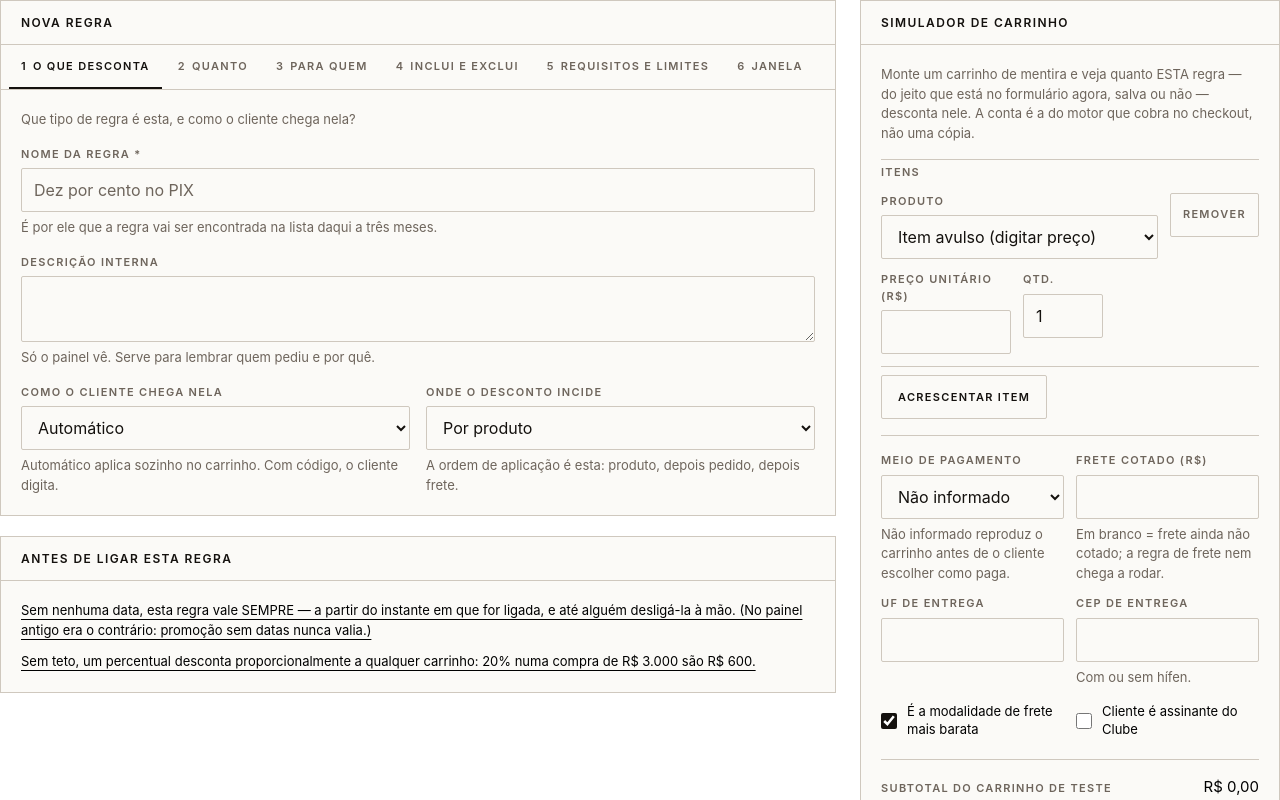
Test: a barra de salvar é contextual — R5 › descartar pede duas etapas, e a segunda desfaz a digitação
The width and height of the screenshot is (1280, 800).
Step 1. Type "PIX" into the field labelled "Nome da regra *" → (418, 190), box left=21, top=168, right=815, bottom=212
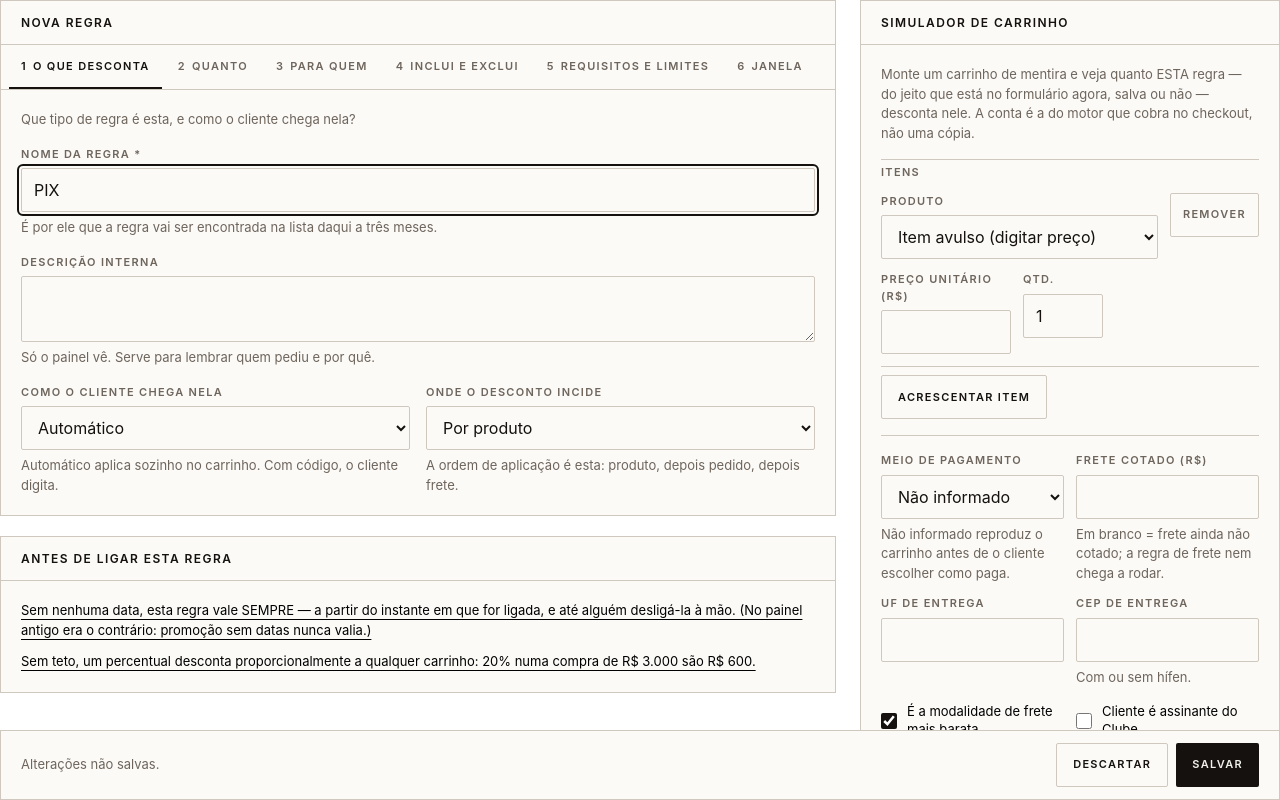
Step 2. Click the button "Descartar" → (1112, 765), box left=1056, top=743, right=1168, bottom=787
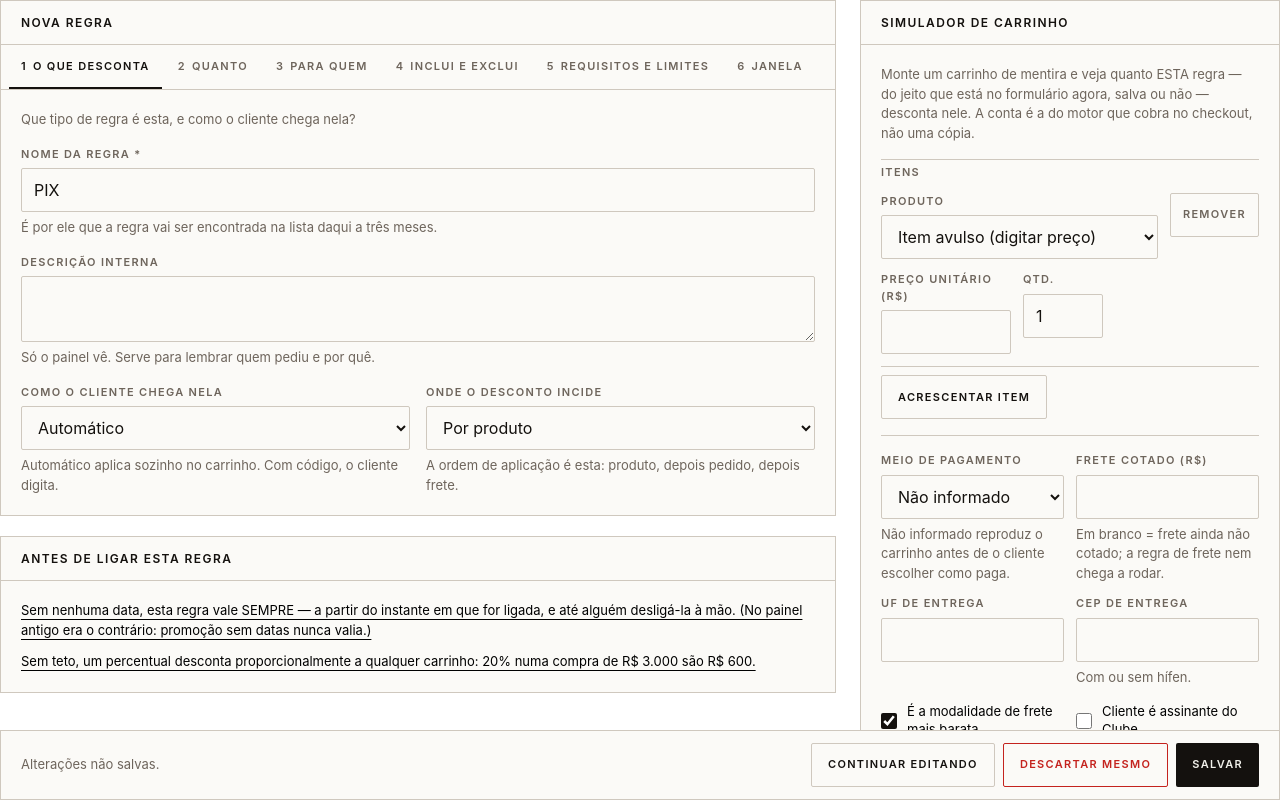
Result: the button "Continuar editando" is shown at left=811, top=743, right=995, bottom=787
Step 3. Click the button "Descartar mesmo" → (1086, 765), box left=1003, top=743, right=1168, bottom=787
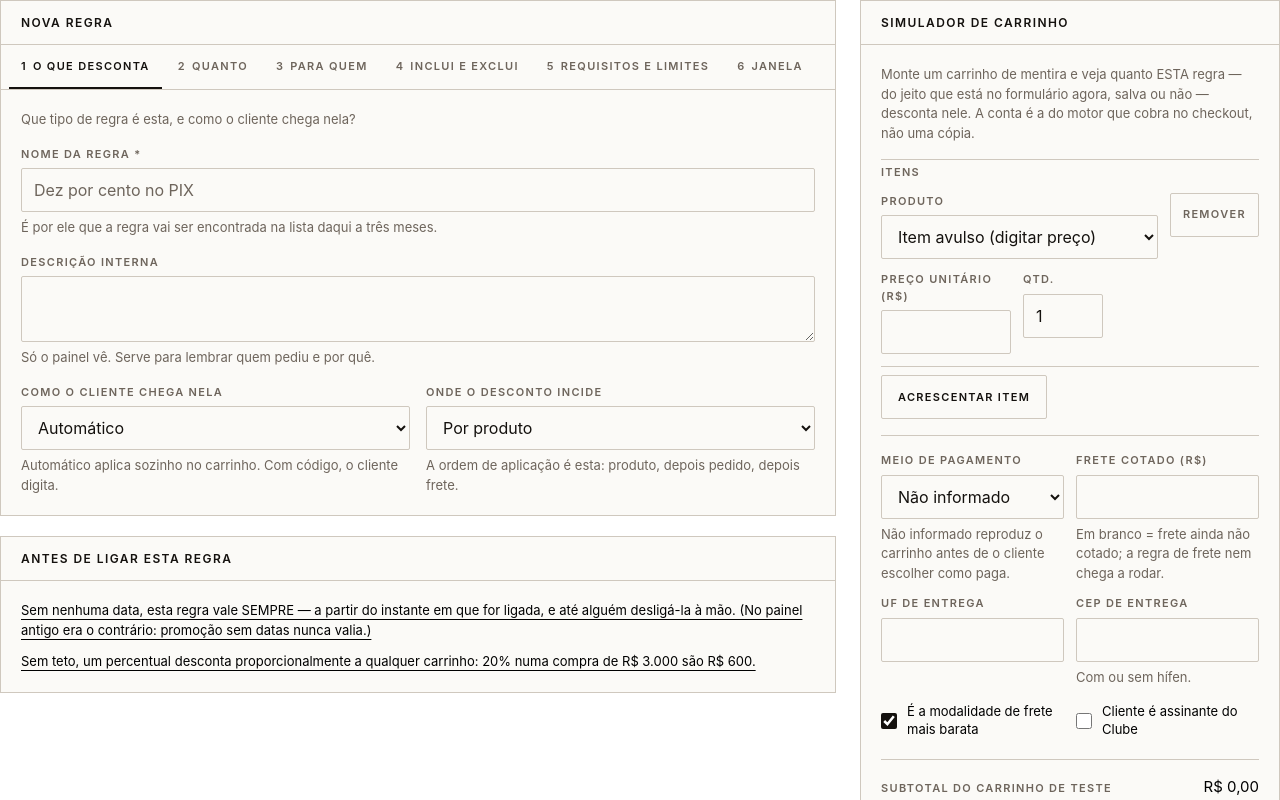
Result: the field labelled "Nome da regra *" is empty at left=21, top=168, right=815, bottom=212
Result: the button "Salvar" is gone
